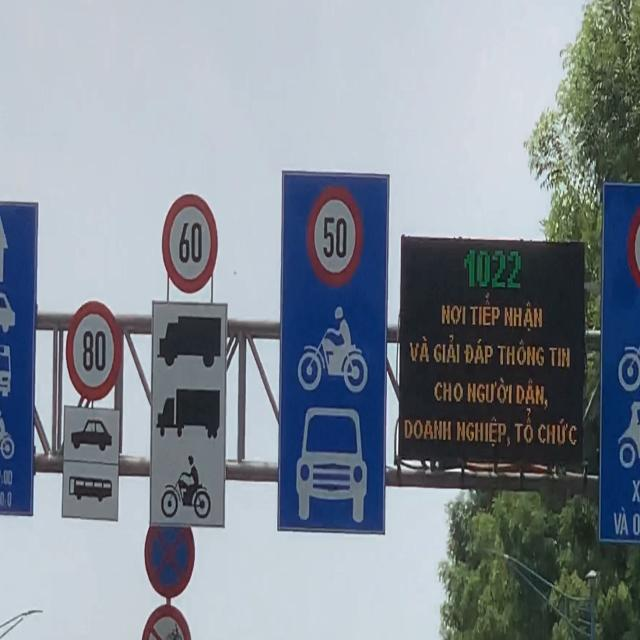Cam con lai: (141, 602, 193, 640)
Cam dung va do: (144, 524, 196, 600)
Toc do toi da: (307, 185, 363, 292), (162, 188, 217, 294), (64, 302, 122, 401), (626, 197, 640, 295)
